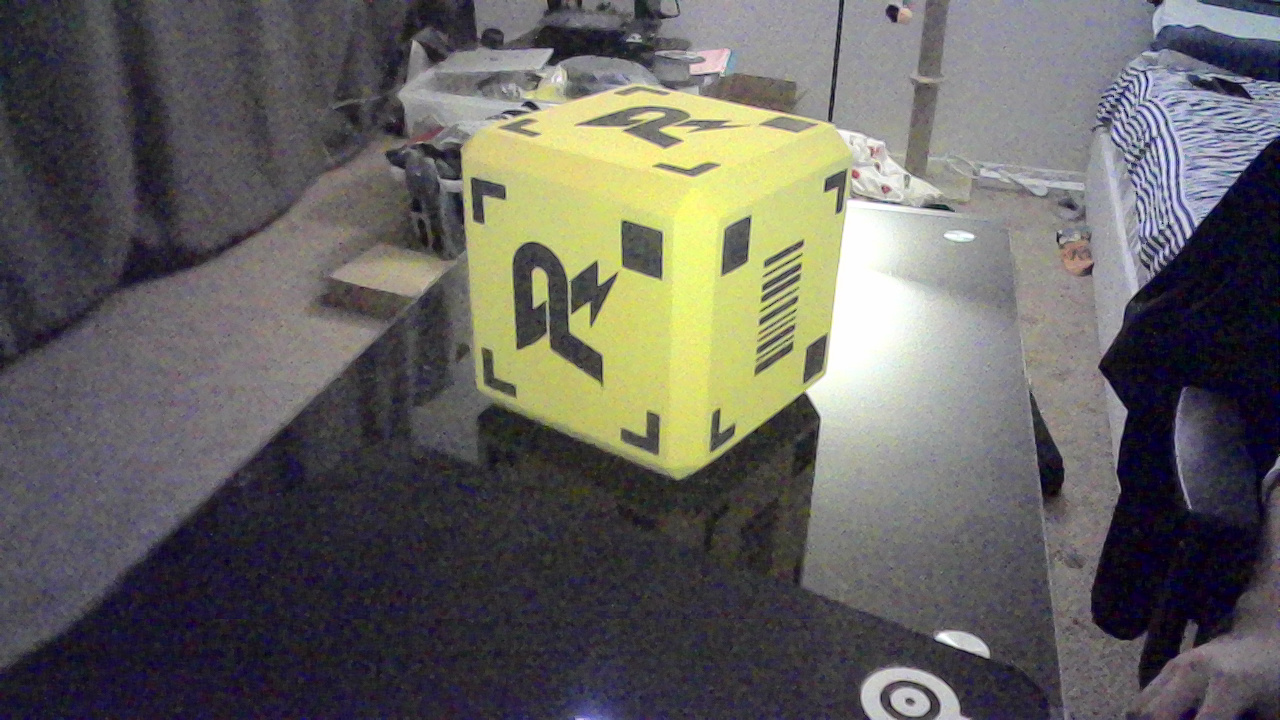Barcode: (759, 251, 808, 381)
R: (510, 245, 624, 378), (594, 107, 730, 159)
